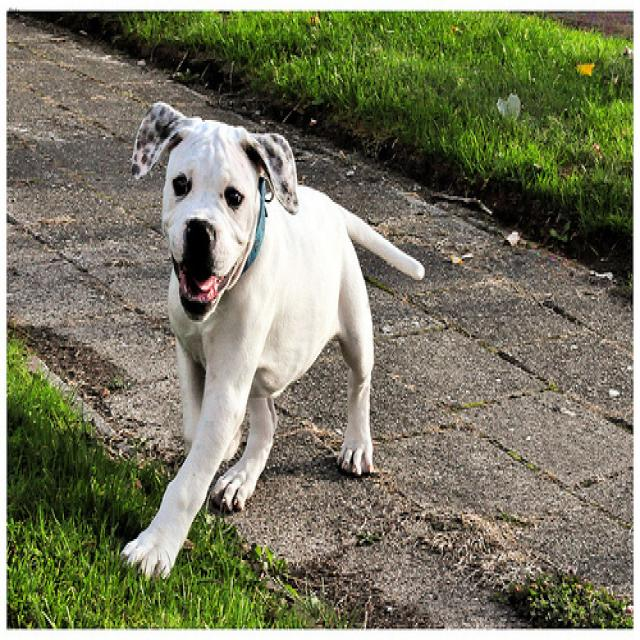dog-american_bulldog: (118, 93, 434, 589)
